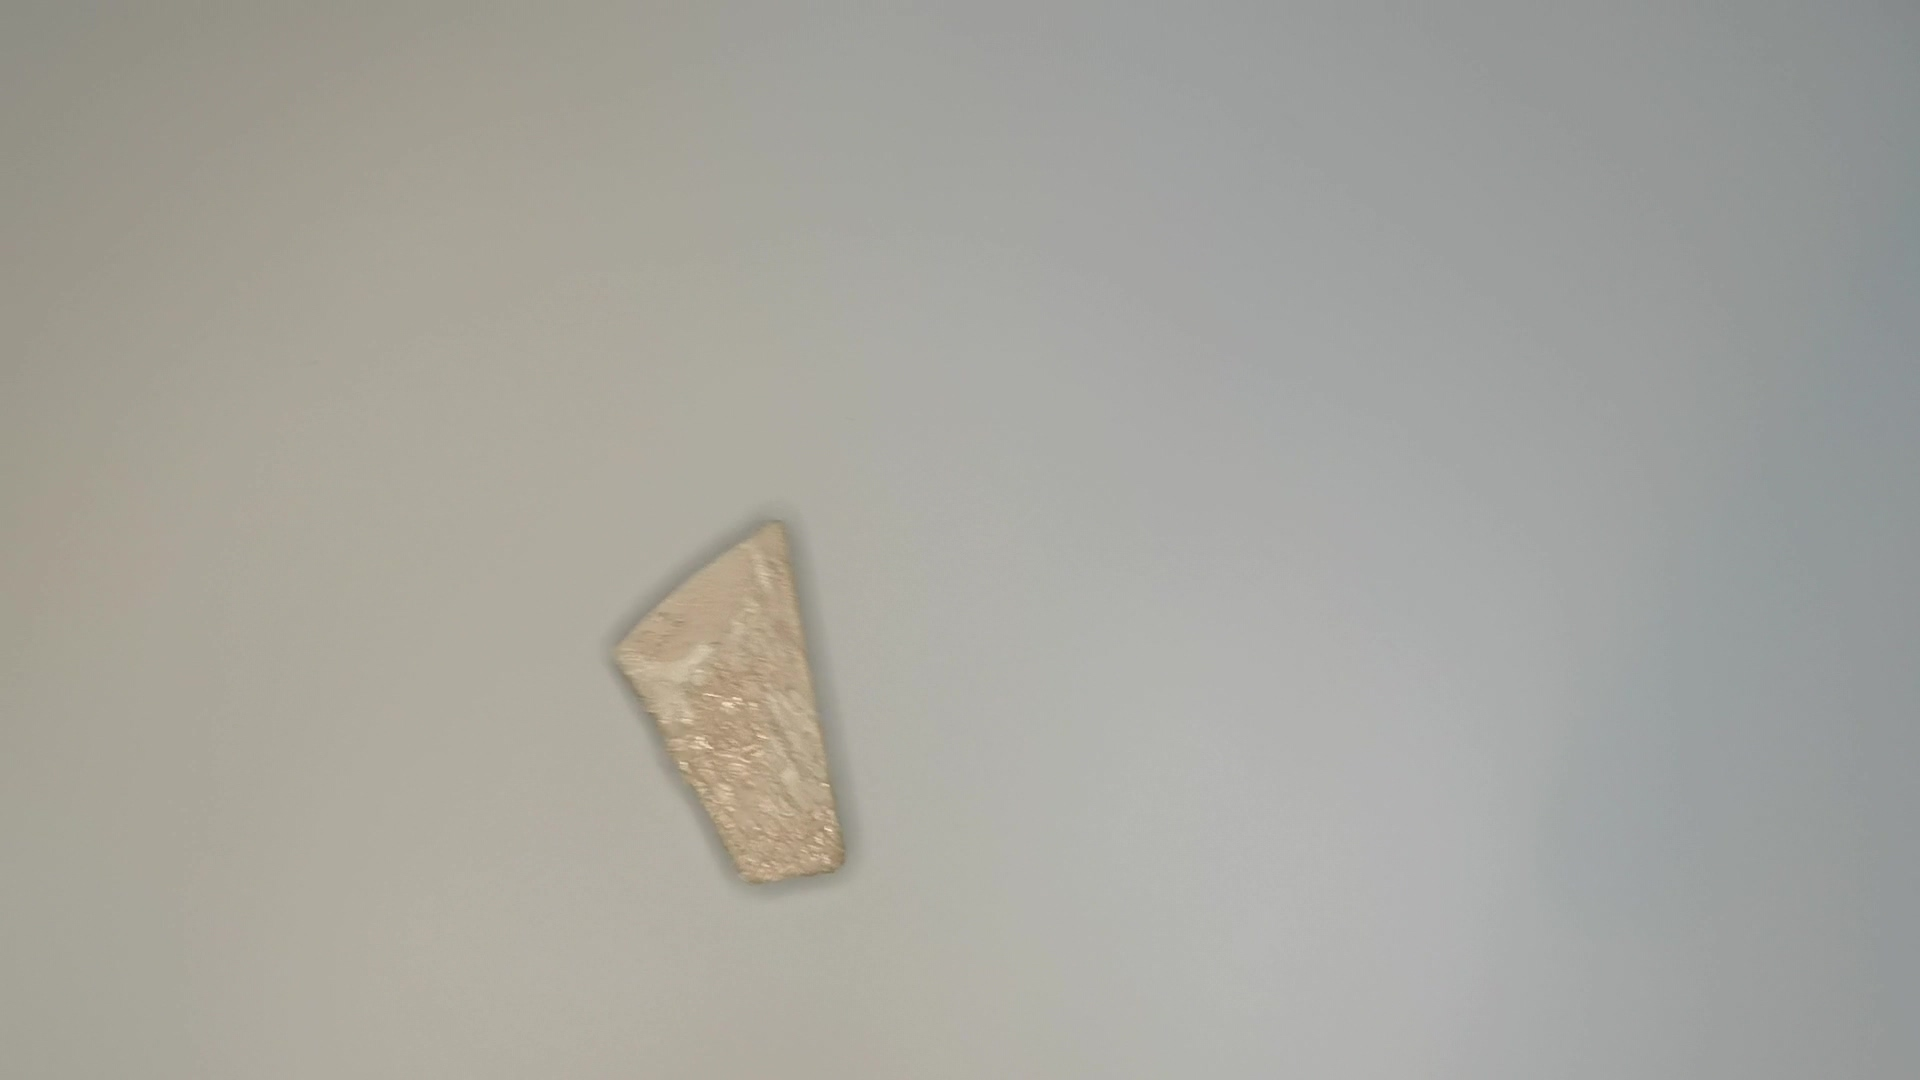ceramic: (607, 516, 851, 889)
